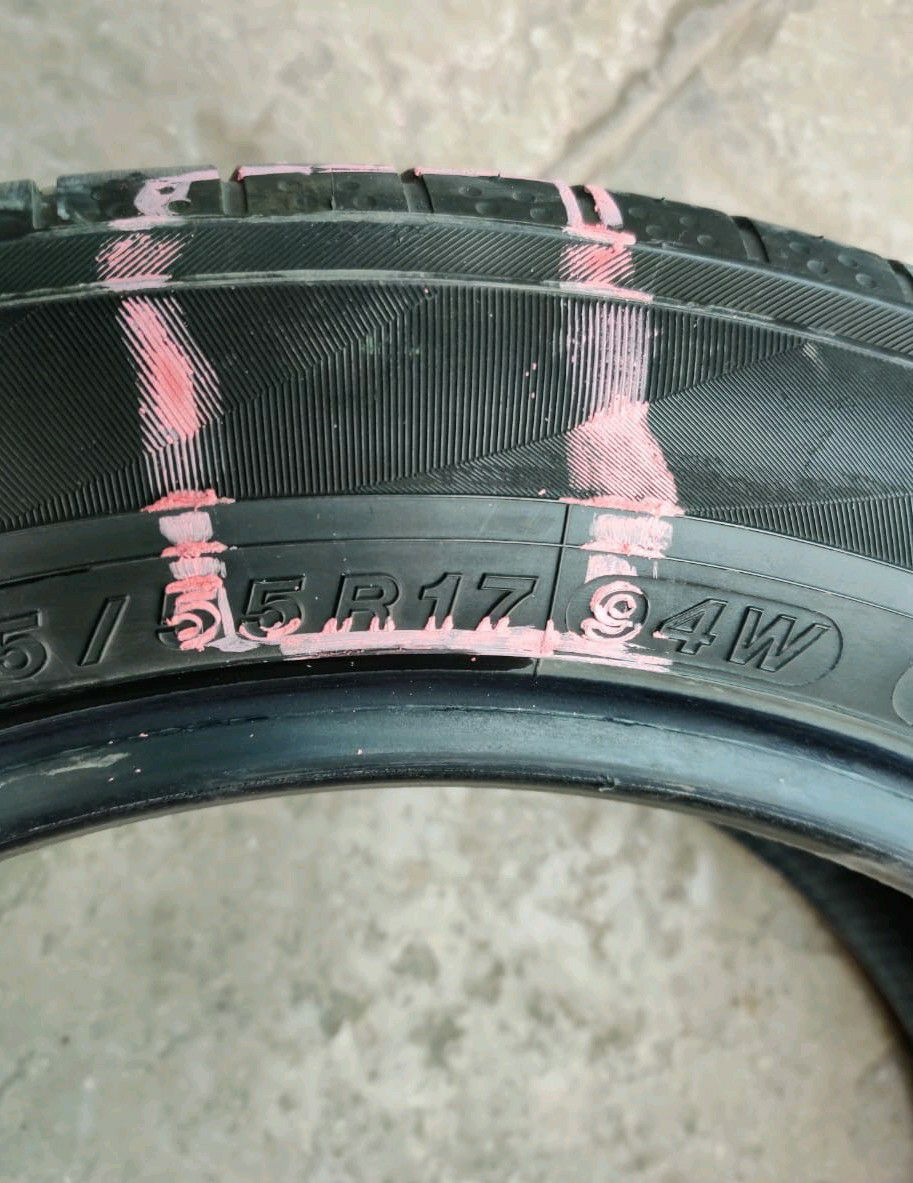CBU: (254, 250, 441, 420)
